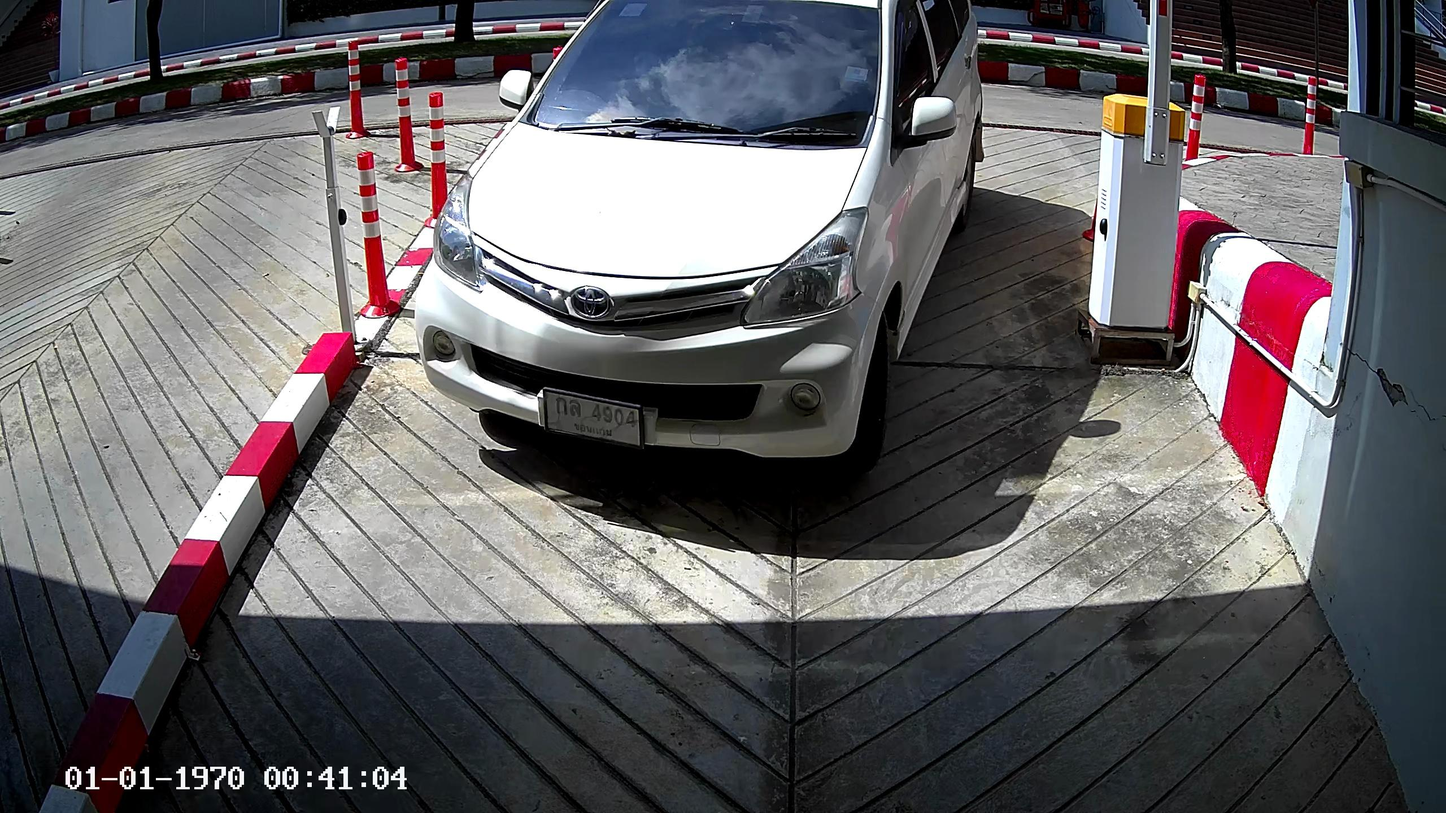car: (417, 2, 984, 491)
license-plate: (537, 382, 647, 451)
